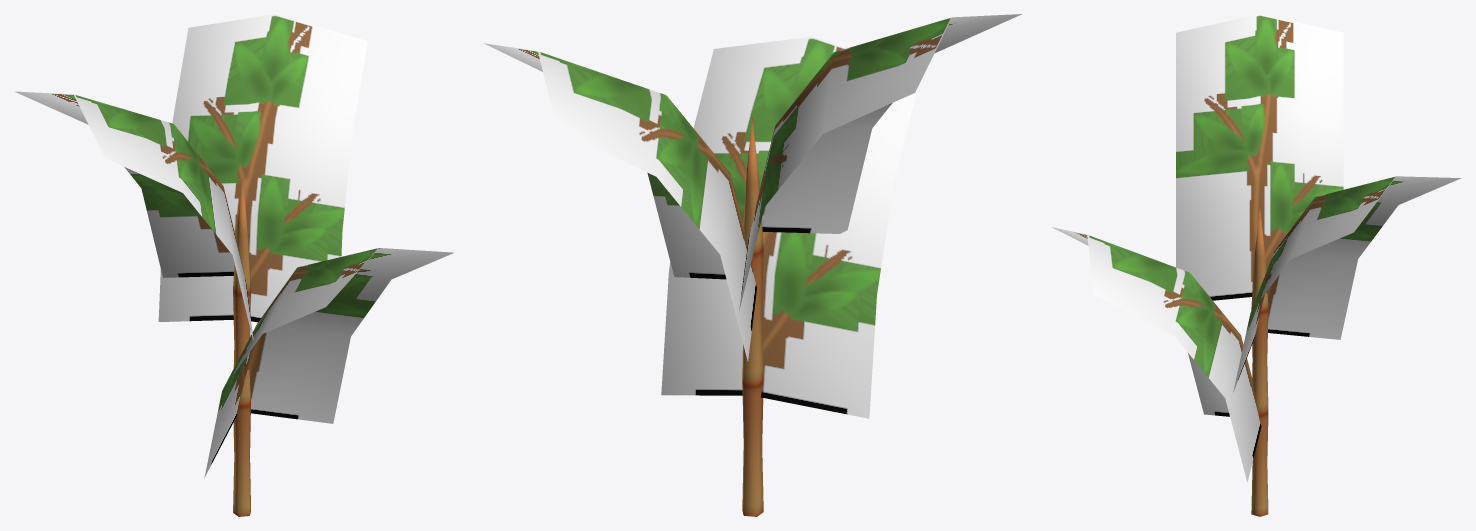
File: Ctn_bamboo_01_v03.FBX
The picture shows the model from 3 angles, left to right: view 1: azimuth 30°, elevation 25°; view 2: azimuth 150°, elevation 25°; view 3: azimuth 270°, elevation 25°; orthographic projection. The views are drawn at different scales.
Visible parts, largest first — view 1: Ctn_bamboo_01_v03; view 2: Ctn_bamboo_01_v03; view 3: Ctn_bamboo_01_v03.
Part boxes in pixels (x1,y1,x2,y2): Ctn_bamboo_01_v03: (15,14,454,516); Ctn_bamboo_01_v03: (484,14,1021,516); Ctn_bamboo_01_v03: (1052,14,1461,516).
Bounding box in the file's own units: 78.46 × 95.93 × 84.34.
